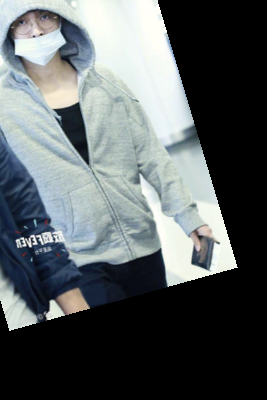mask_weared_incorrect: (1, 1, 79, 68)
